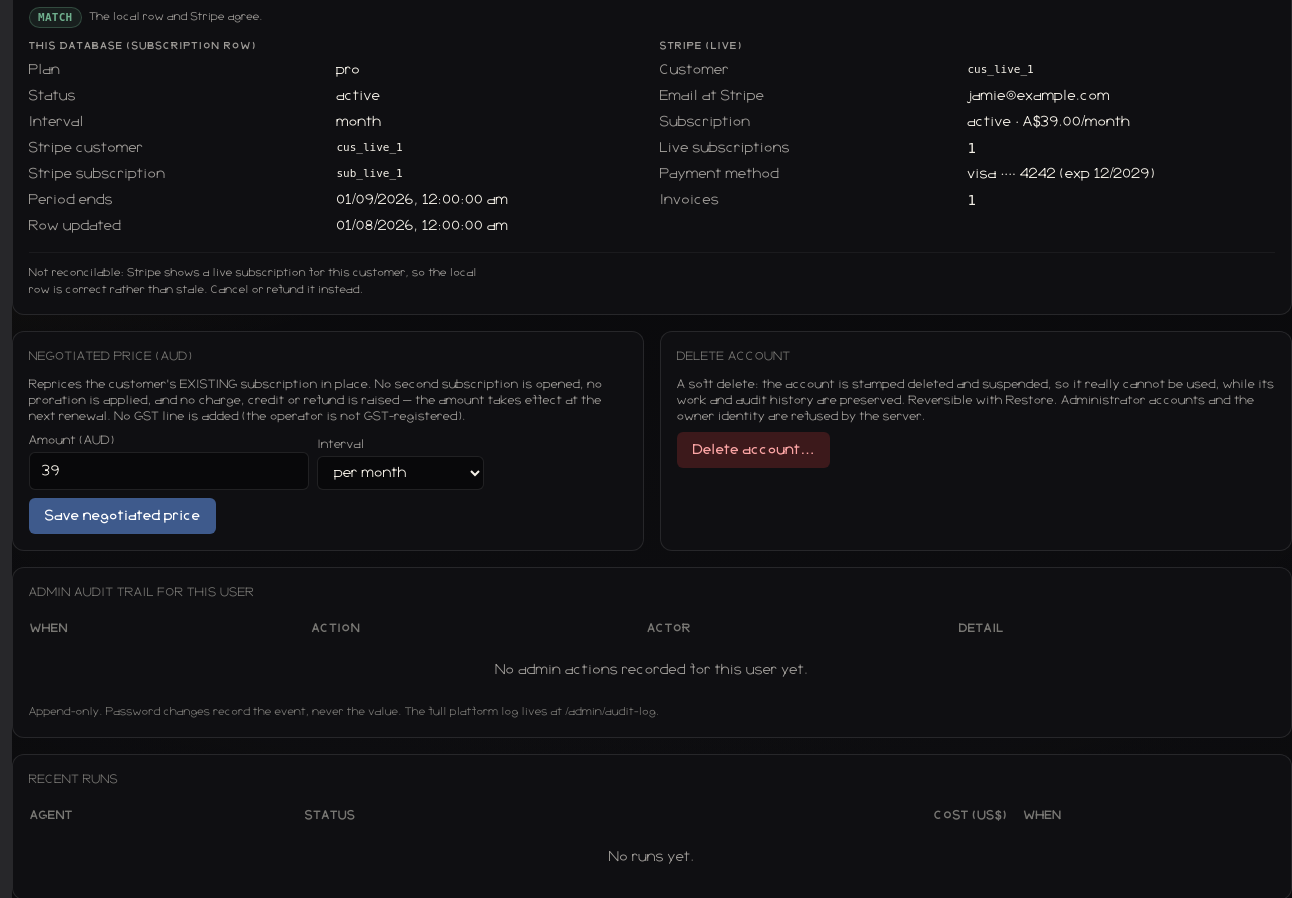
Scenario: negotiated custom price › surfaces the no-live-subscription 409 through the 'Not applicable:' pattern
The image size is (1292, 898).
(page scrolled)
Replace the text in the field named "Custom amount (AUD)" with "19" at (169, 471), box [29,452,310,490]
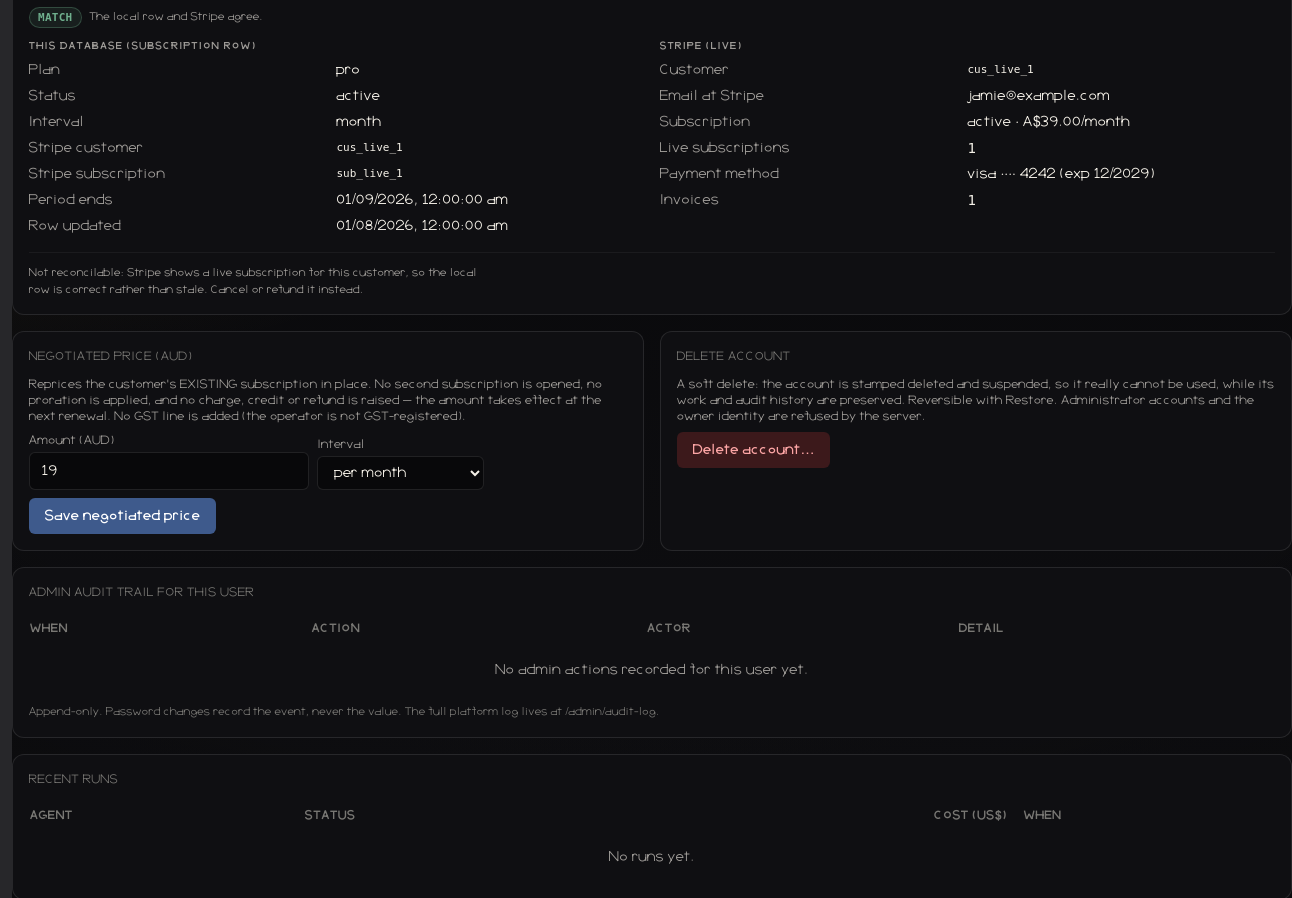
Click the button with test id "admin-custom-price-save" at (123, 516), box [29,498,216,534]
(page scrolled)
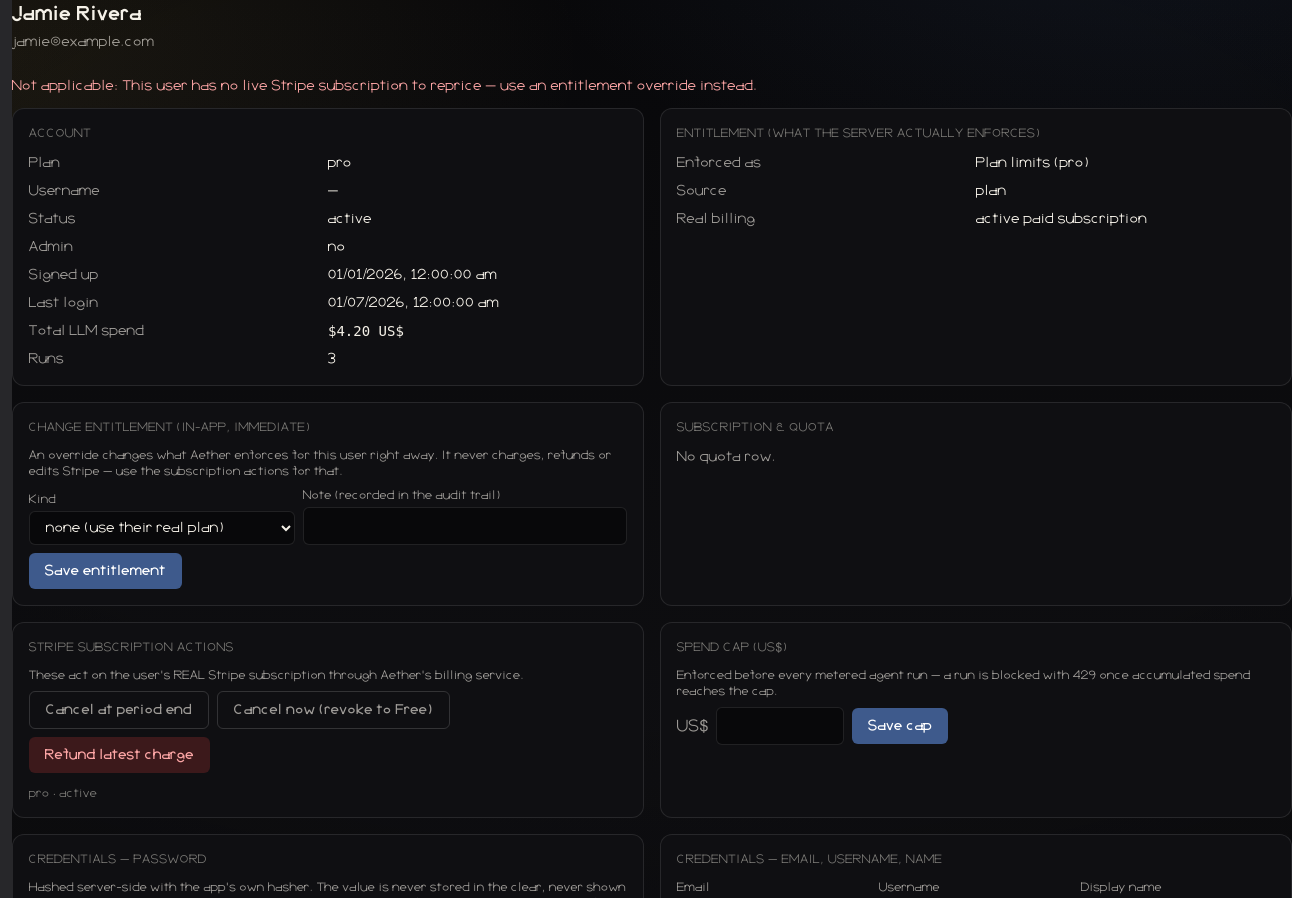
expect the message with test id "admin-user-error" shows "Not applicable": met, box [12,79,758,93]
expect the message with test id "admin-user-error" shows "entitlement override": met, box [12,79,758,93]
